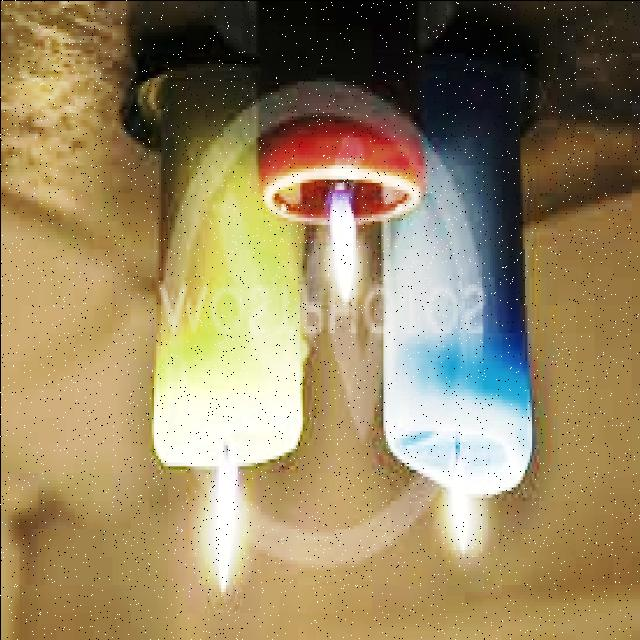api: (319, 194, 365, 313), (212, 452, 238, 599), (446, 463, 474, 561)
